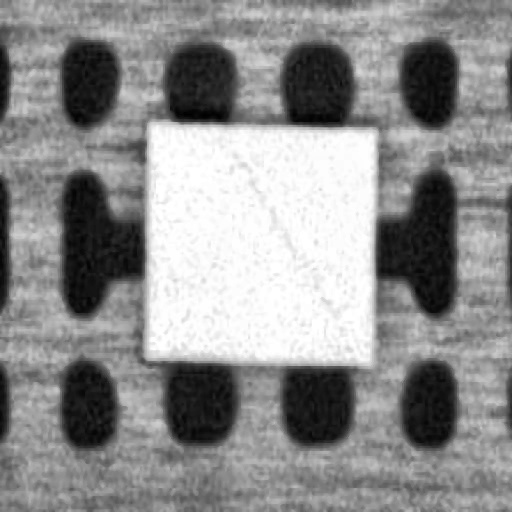DIE_CRACK: (229, 138, 349, 337)
